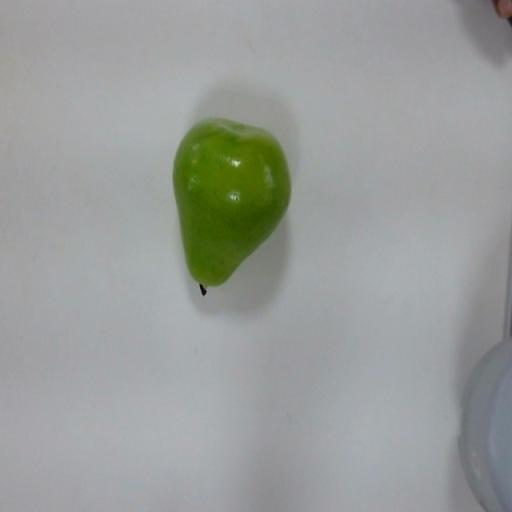Unripe: (170, 111, 295, 332)
